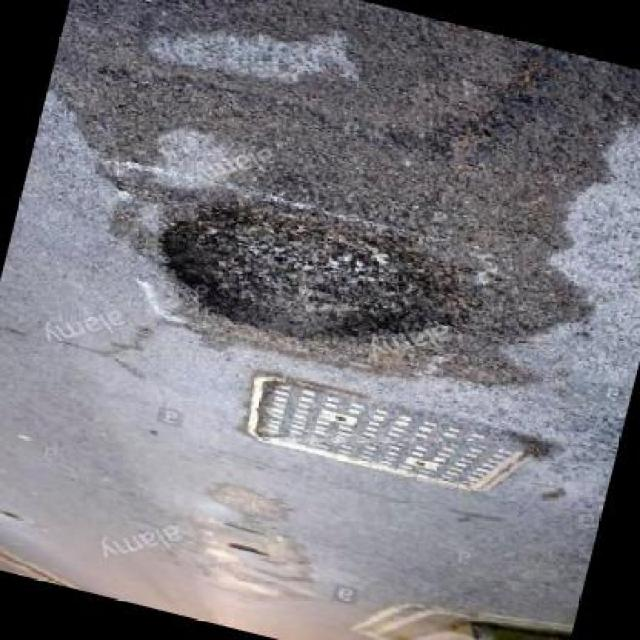pothole: (140, 173, 502, 390), (220, 540, 275, 562)
